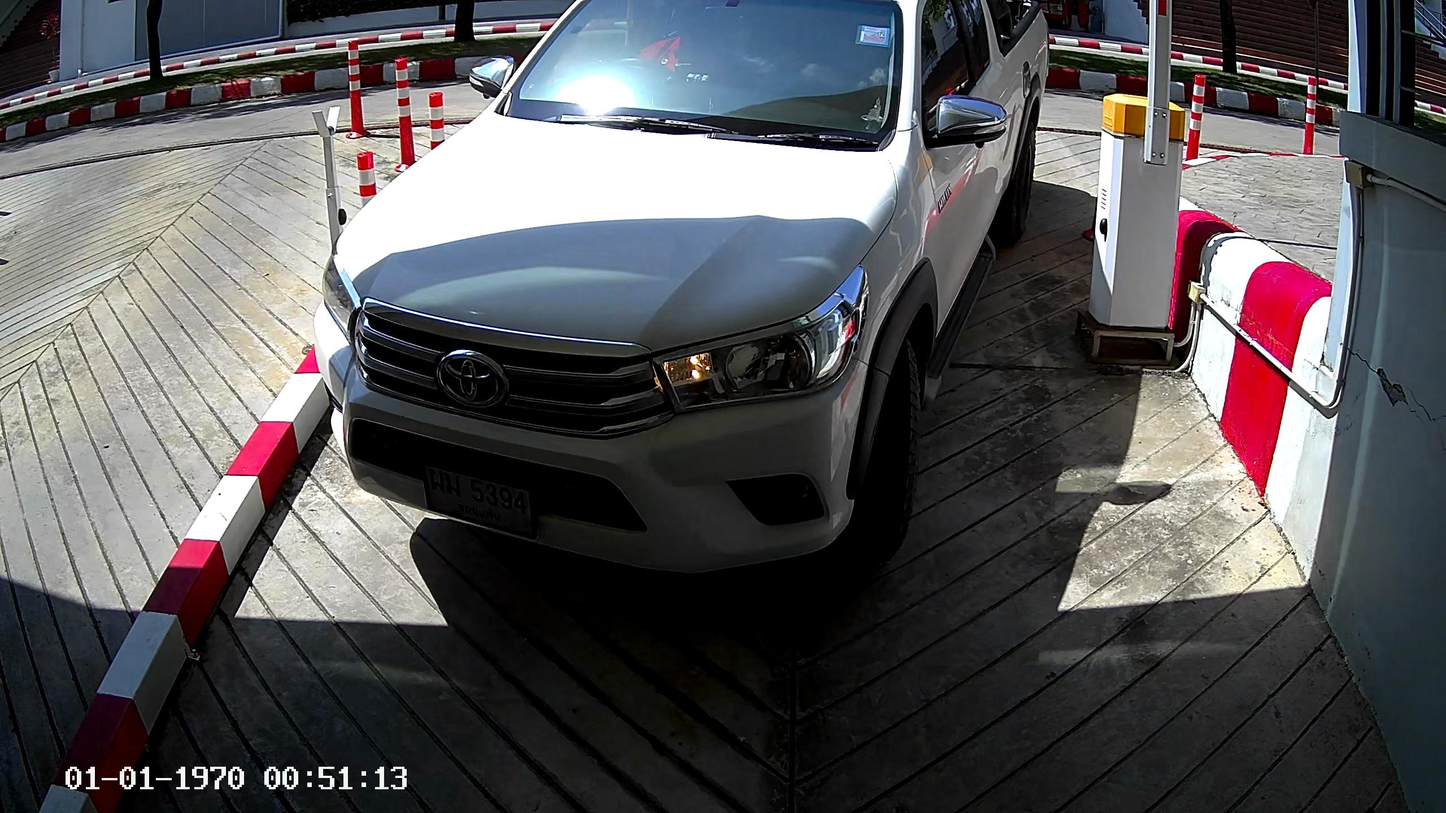car: (319, 2, 1046, 593)
license-plate: (423, 456, 538, 543)
